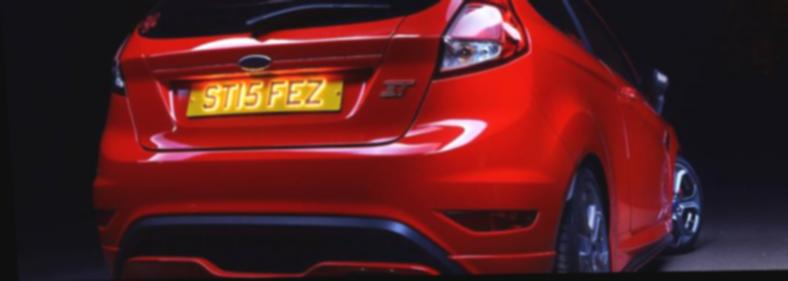License_Plate: (179, 70, 350, 119)
